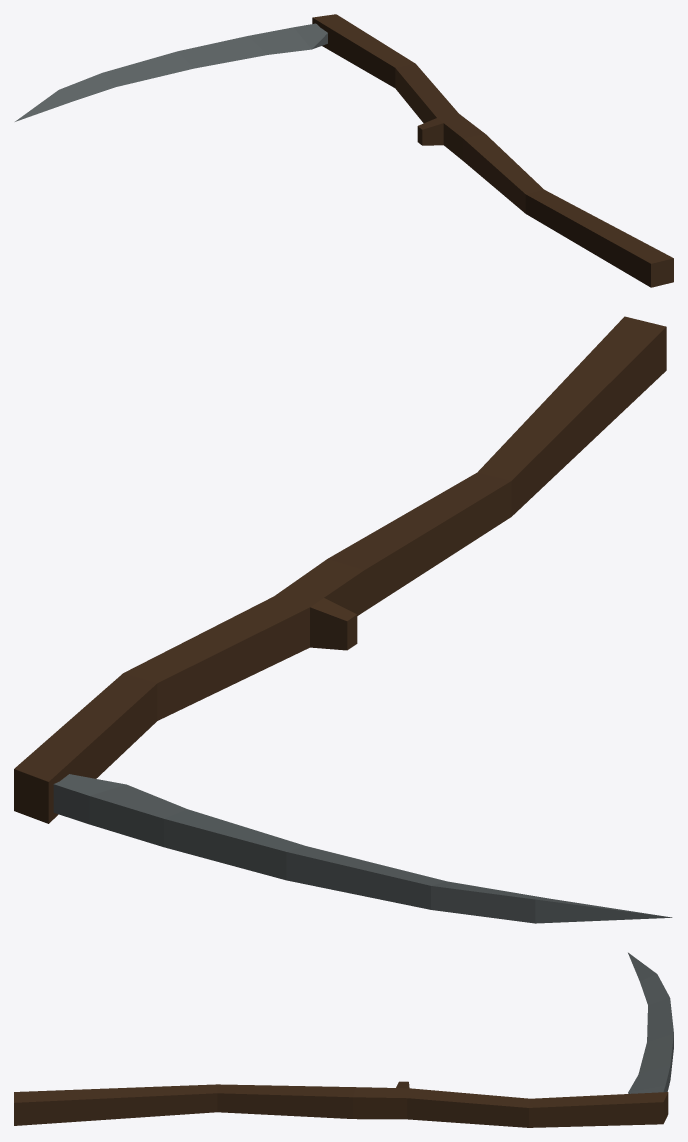
The model's file is Scythe_1_Dark_Brown.fbx.
3 renders of one model, top to bottom at view 1: azimuth 30°, elevation 25°; view 2: azimuth 150°, elevation 25°; view 3: azimuth 270°, elevation 25°, orthographic. The views are drawn at different scales.
Visible parts, largest first — view 1: Scythe_1_Dark_Brown; view 2: Scythe_1_Dark_Brown; view 3: Scythe_1_Dark_Brown.
Boxes of the visible parts, box(x1,y1,x2,y2) form: Scythe_1_Dark_Brown: box(15, 14, 673, 287); Scythe_1_Dark_Brown: box(14, 316, 672, 923); Scythe_1_Dark_Brown: box(14, 952, 673, 1127).
Size of the model in its own units: 103 by 6.7 by 173.
